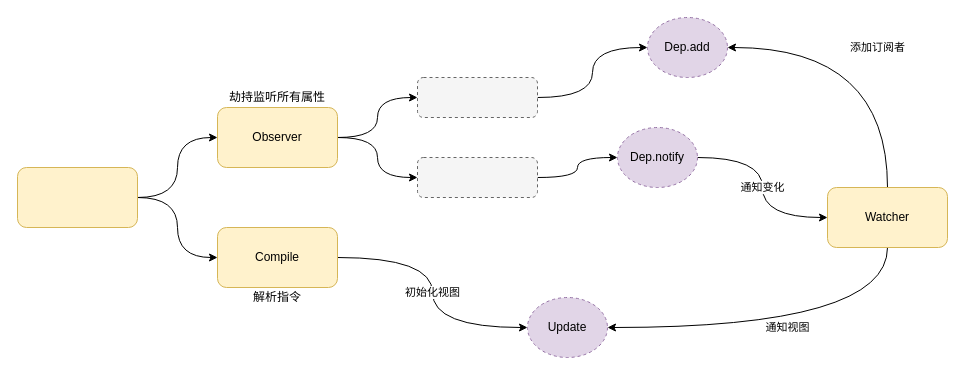
Image size: 965x375. Some labels were removed from this diagram. Each missing label, with the centre of its shape:
"defineProperty.get" goes at point 477,97.
"defineProperty.set" goes at point 477,177.
"new Vue()" goes at point 77,197.
